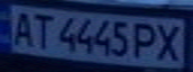4: (90, 17, 115, 56), (72, 16, 96, 55), (54, 15, 78, 53)
5: (109, 18, 136, 57)
A: (6, 8, 39, 47)
P: (130, 19, 163, 61)
T: (27, 10, 57, 49)
X: (151, 20, 187, 63)
